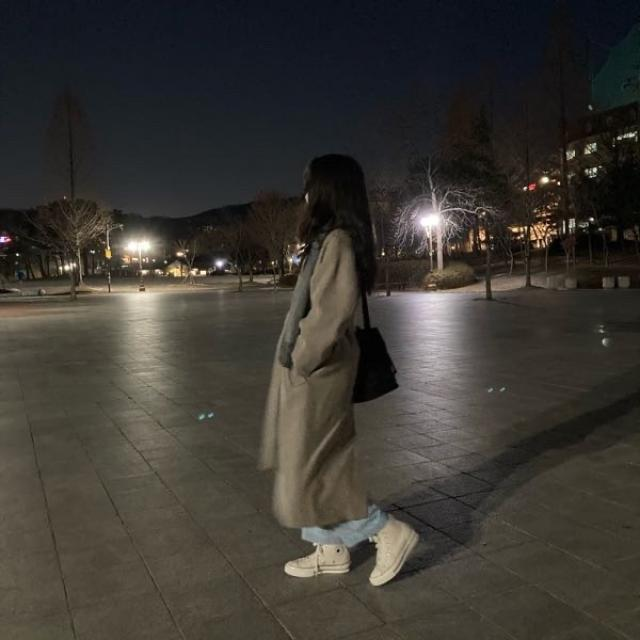coat: (258, 228, 367, 530)
